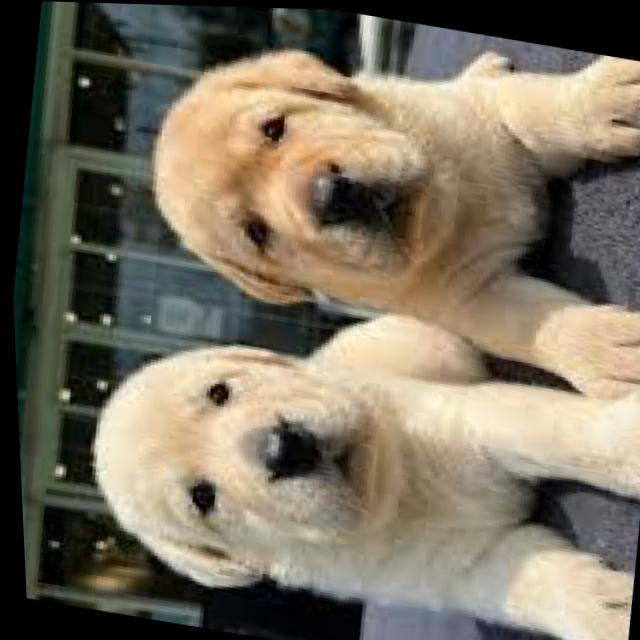Abrador: (60, 271, 640, 640), (127, 4, 640, 402)
